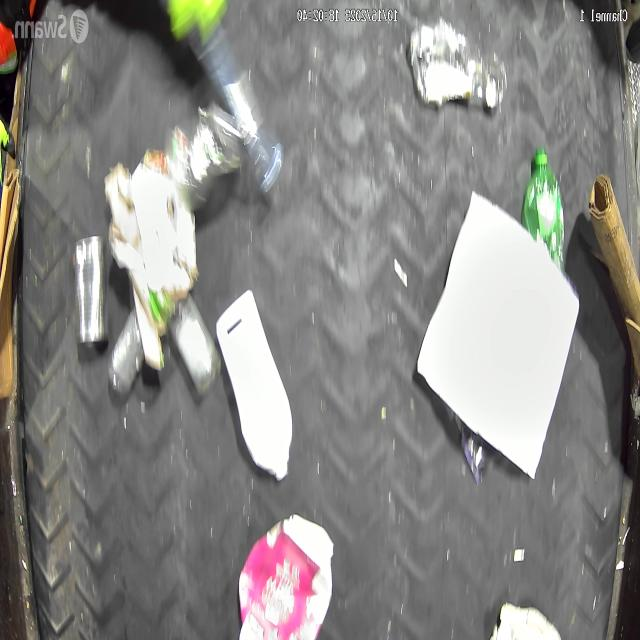can: (73, 235, 110, 351)
non_white_jug: (237, 513, 334, 640)
plastic_bottle: (525, 145, 564, 267)
